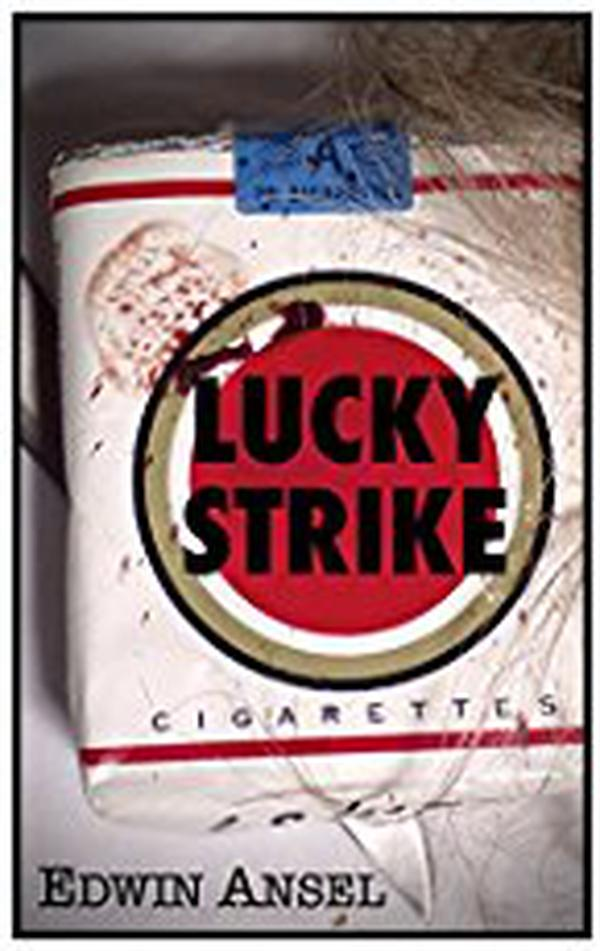lucky_strike_red: (82, 132, 577, 797)
